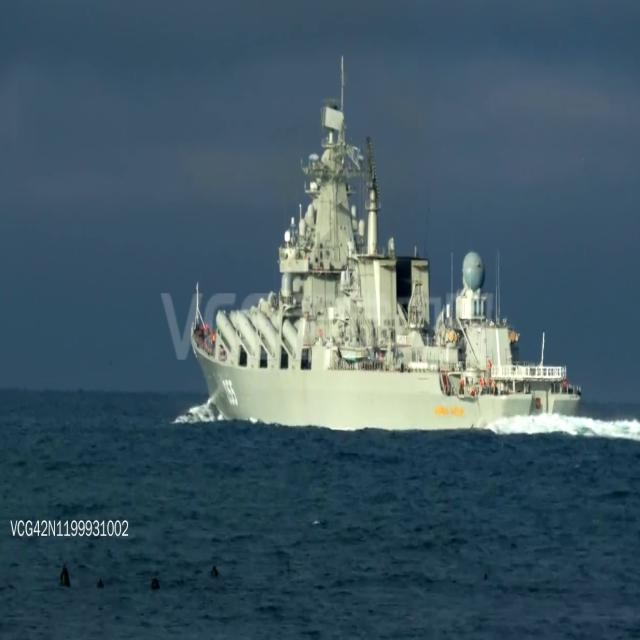navalvessels: (184, 78, 576, 435)
